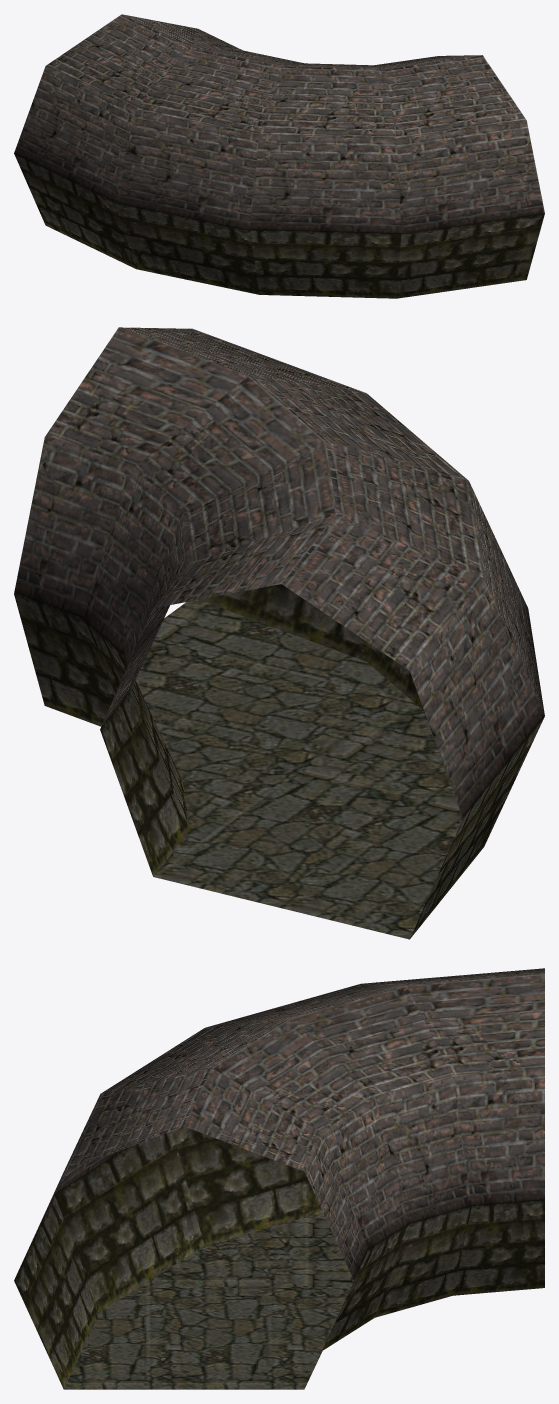
File: curve-sewer.glb
The picture shows the model from 3 angles, top to bottom: view 1: azimuth 30°, elevation 25°; view 2: azimuth 150°, elevation 25°; view 3: azimuth 270°, elevation 25°; orthographic projection. The views are drawn at different scales.
Parts seen in each view (by area): view 1: SewerSection_Curve_90_Narrow.001; view 2: SewerSection_Curve_90_Narrow.001; view 3: SewerSection_Curve_90_Narrow.001.
Part boxes in pixels (left/top/right/bottom): SewerSection_Curve_90_Narrow.001: left=14, top=14, right=544, bottom=298; SewerSection_Curve_90_Narrow.001: left=14, top=327, right=544, bottom=939; SewerSection_Curve_90_Narrow.001: left=14, top=968, right=544, bottom=1389.
Bounding box in the file's own units: 6.62 × 3.62 × 6.62.
2 materials, 2 textured.
